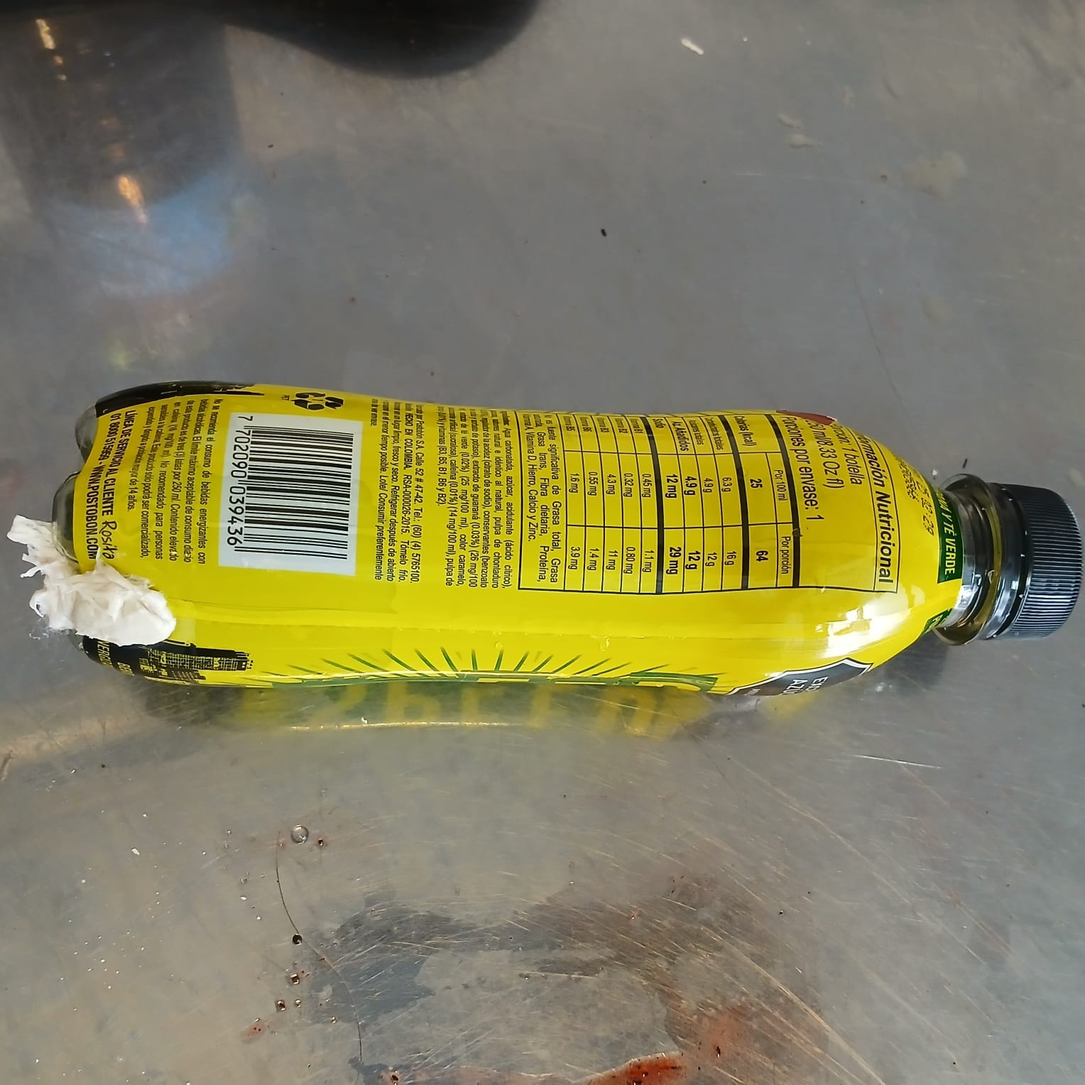Plastico: (51, 378, 1083, 698)
